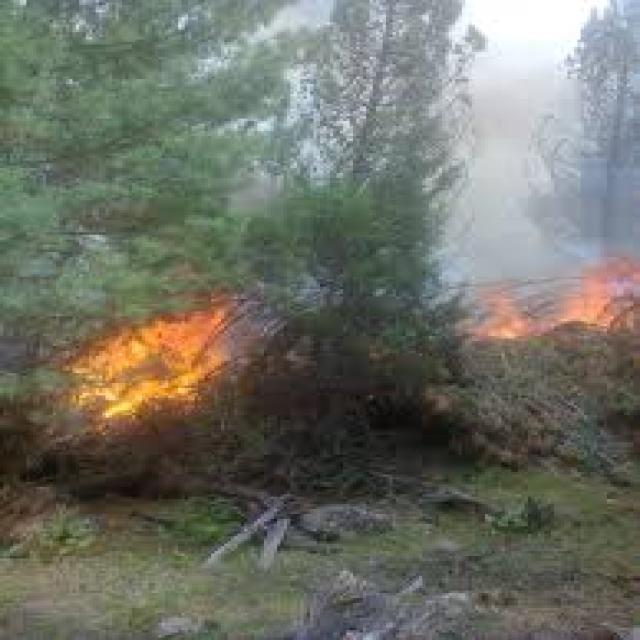Fire: (35, 258, 264, 458), (437, 243, 640, 392)
Smoke: (472, 0, 630, 289)
